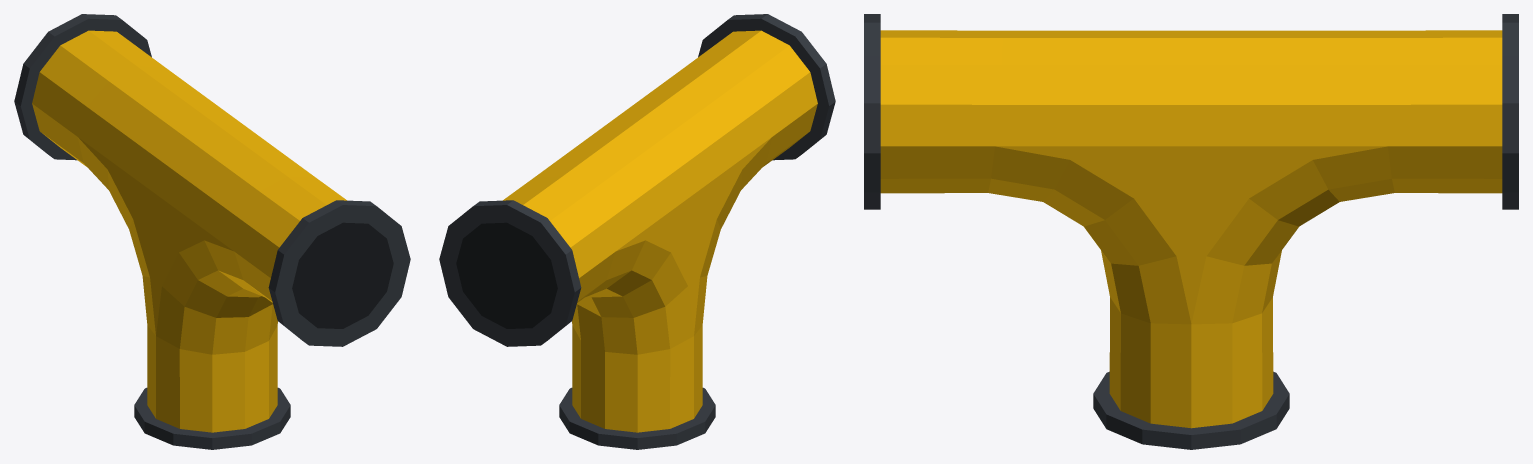
The model's file is Pipe_0.5x1_Junction_T.fbx.
3 renders of one model, left to right at view 1: azimuth 30°, elevation 25°; view 2: azimuth 150°, elevation 25°; view 3: azimuth 270°, elevation 25°, orthographic. The views are drawn at different scales.
Visible parts, largest first — view 1: Pipe_0.5x1_Junction_T; view 2: Pipe_0.5x1_Junction_T; view 3: Pipe_0.5x1_Junction_T.
Boxes of the visible parts, bbox=[...] form: Pipe_0.5x1_Junction_T: bbox=[14, 14, 410, 449]; Pipe_0.5x1_Junction_T: bbox=[439, 14, 835, 449]; Pipe_0.5x1_Junction_T: bbox=[864, 14, 1518, 449].
Bounding box in the file's own units: 60 × 130 × 200.
